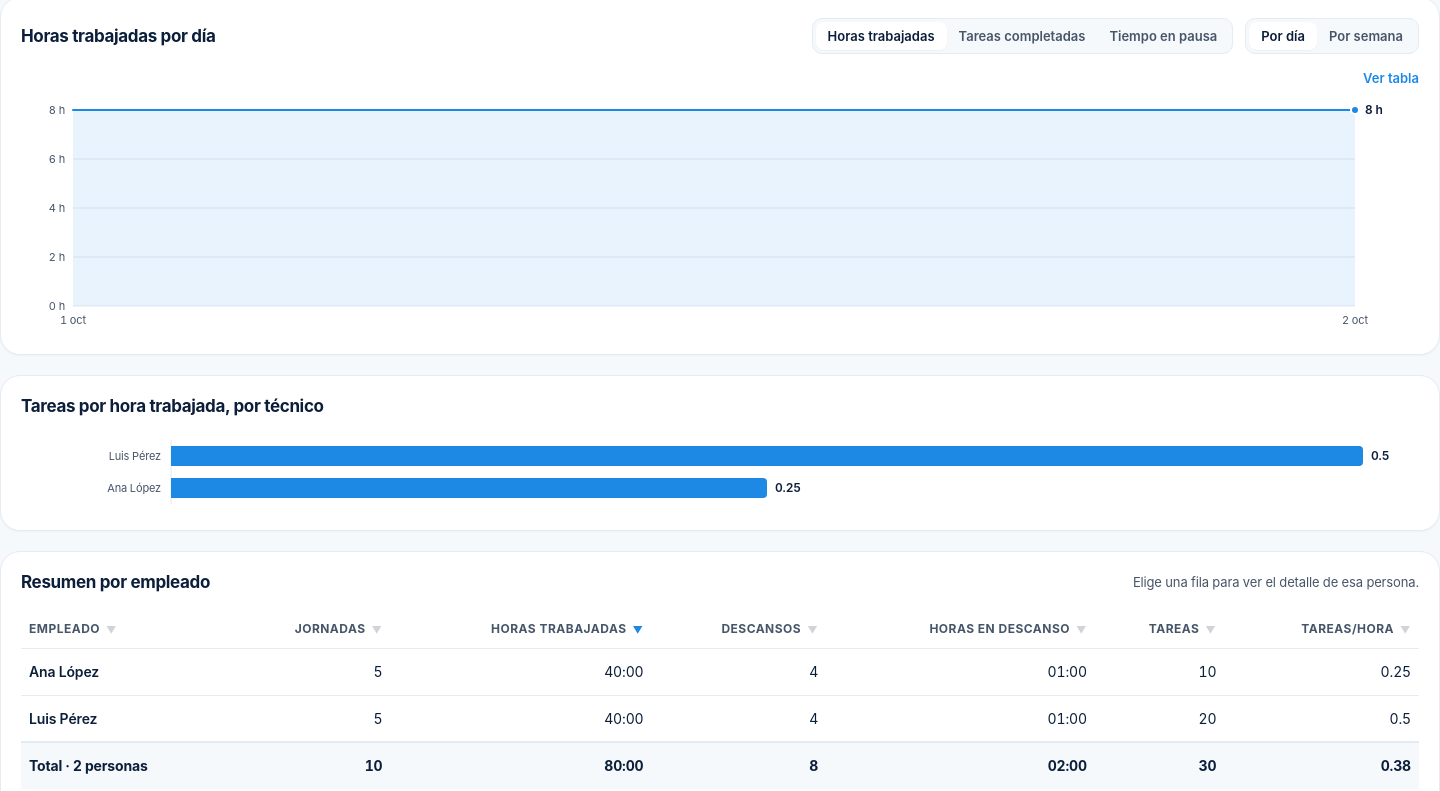
Test case: exportación › el Excel sale con el rango de la pantalla y la persona elegida
(page scrolled)
Step 1. Click the text "Luis Pérez" → (125, 719), box [21,695,230,742]
(page scrolled)
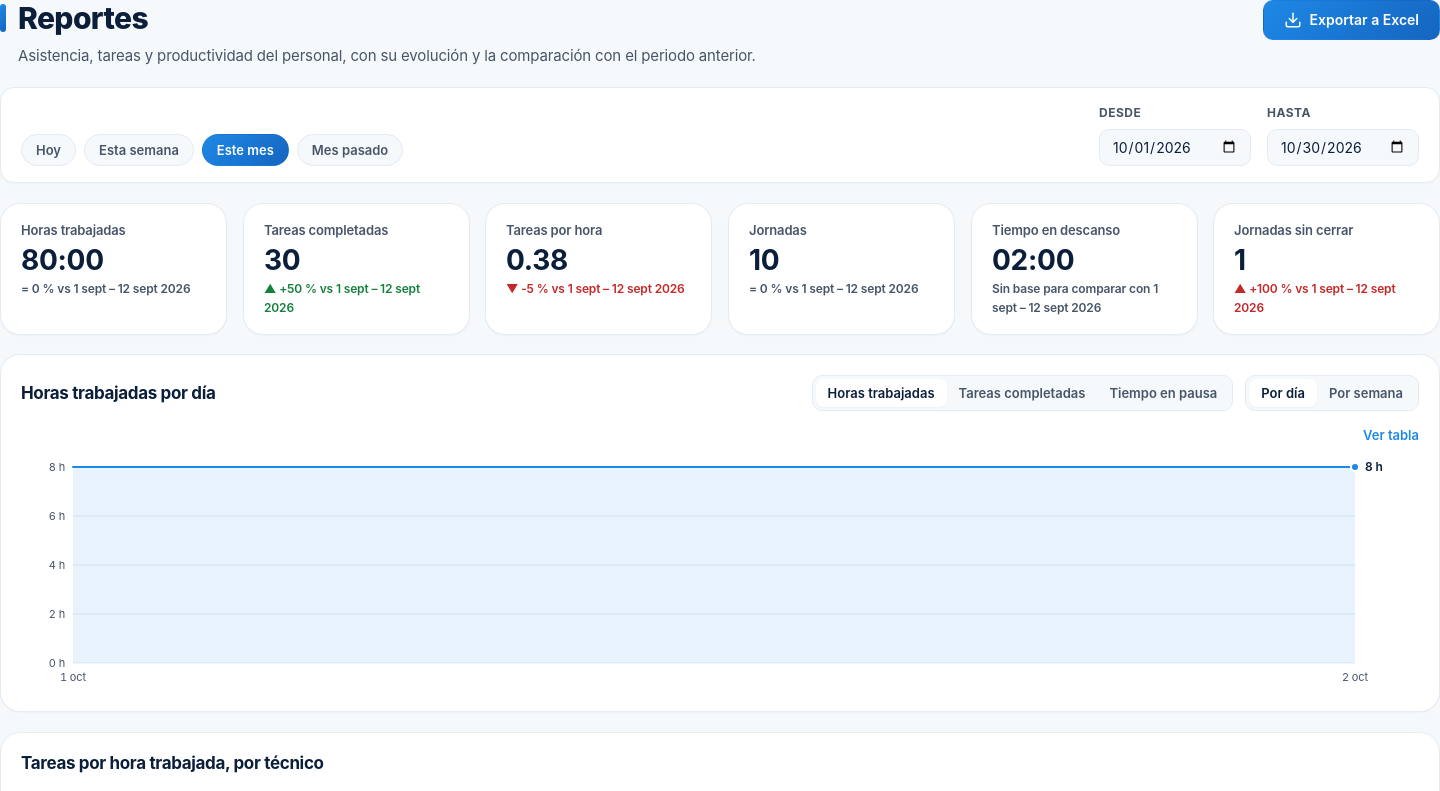
Step 2. Click the button "Exportar a Excel" → (1351, 20), box [1262,0,1439,40]
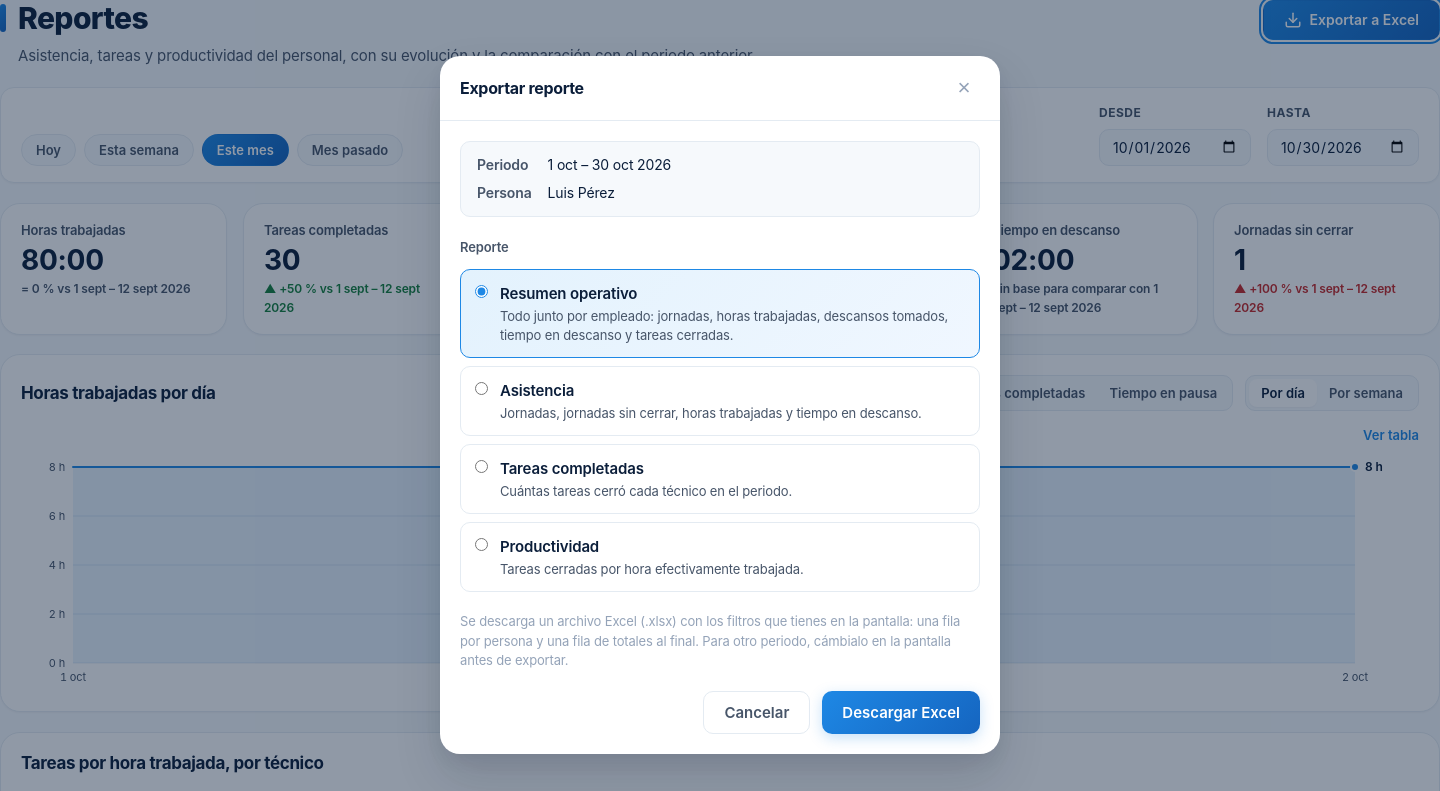
Expected: the text "Luis Pérez" is shown, [548,184,615,201]
Step 3. Click the button "Descargar Excel" → (901, 712), box [822,691,980,734]
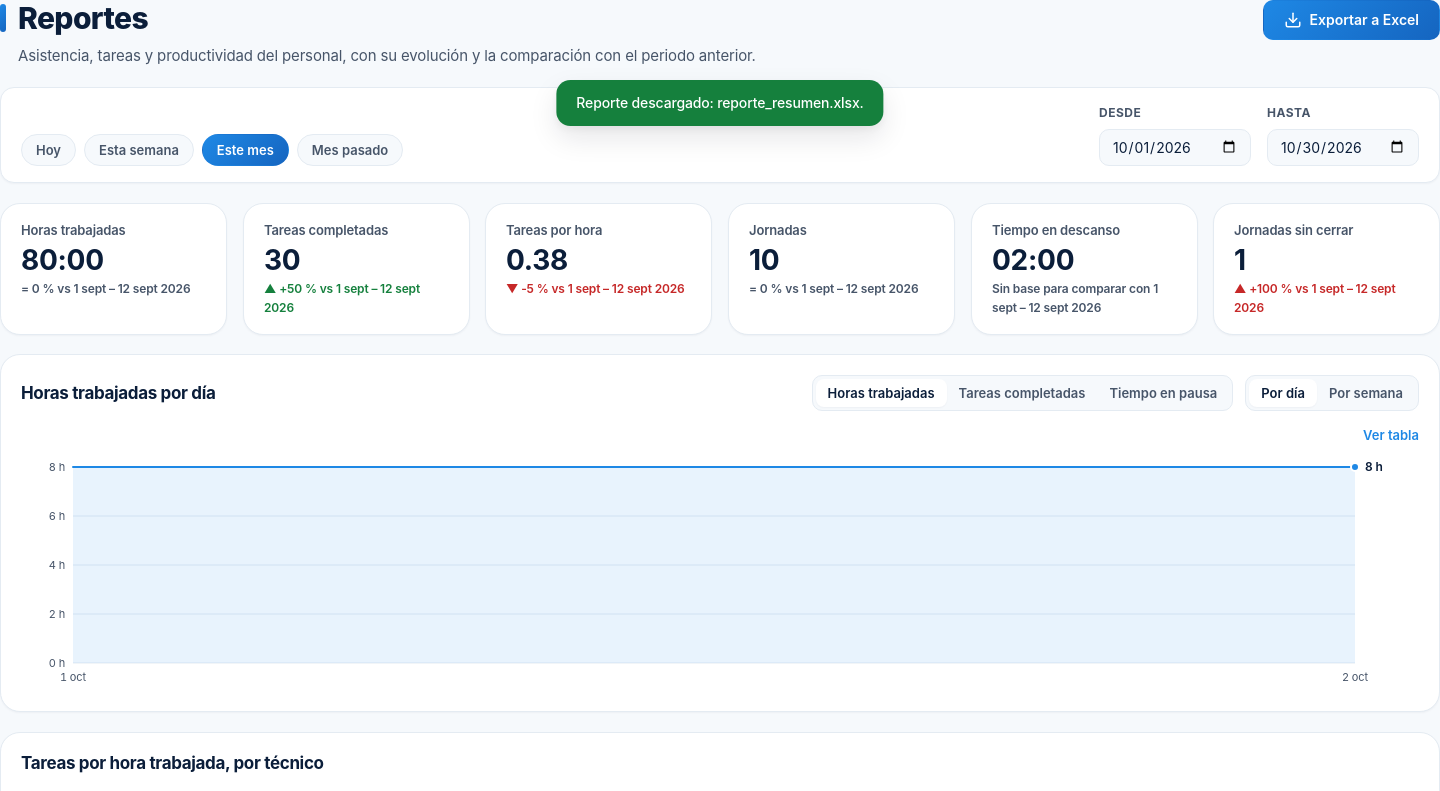
Expected: the text "Reporte descargado: reporte_resumen.xlsx." is shown, [556,80,884,126]
